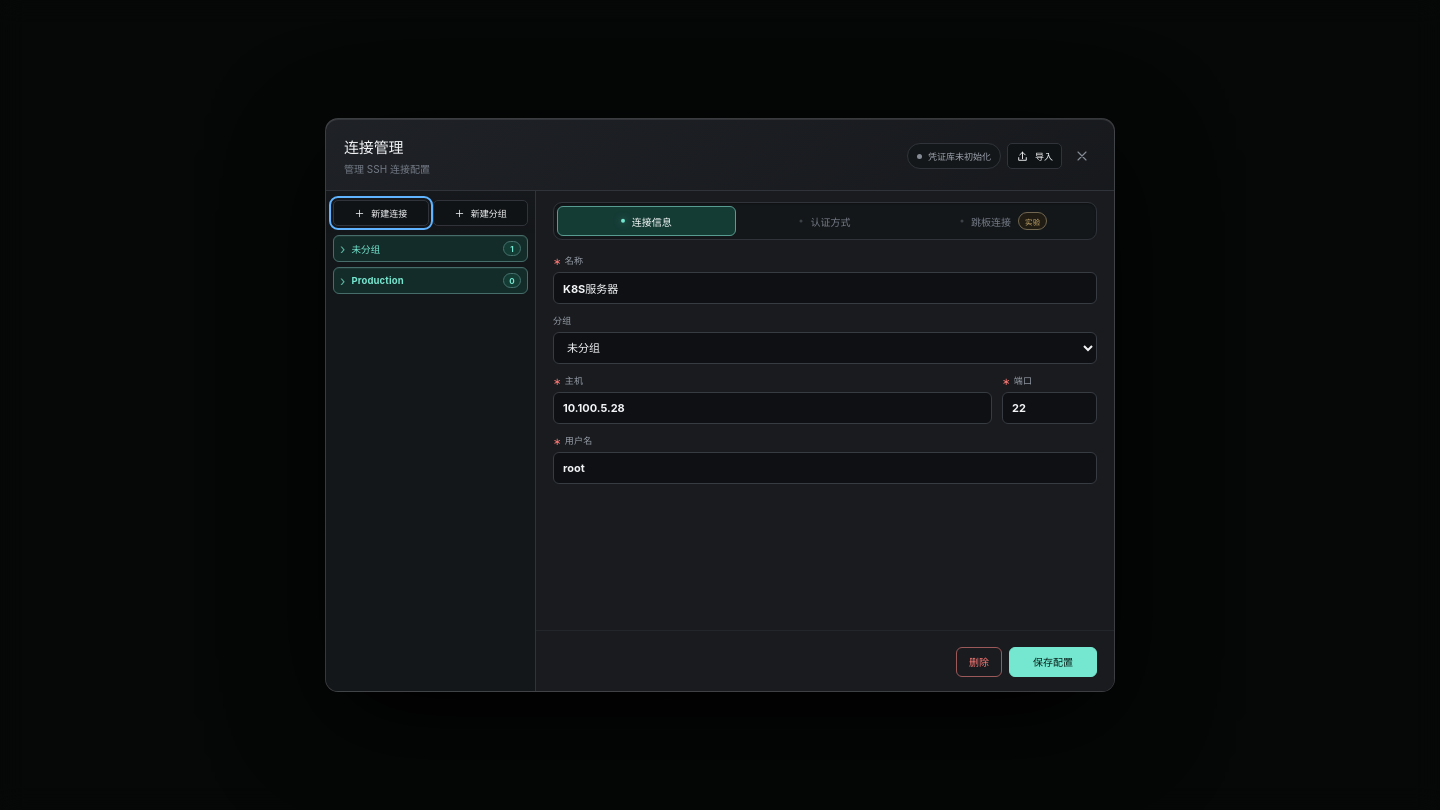
Test: connection list overflow after copying › removes the copied row's selection surface when its group is collapsed (null)
Click the button "› 未分组 1" at (430, 248), box 334,236 -> 527,261
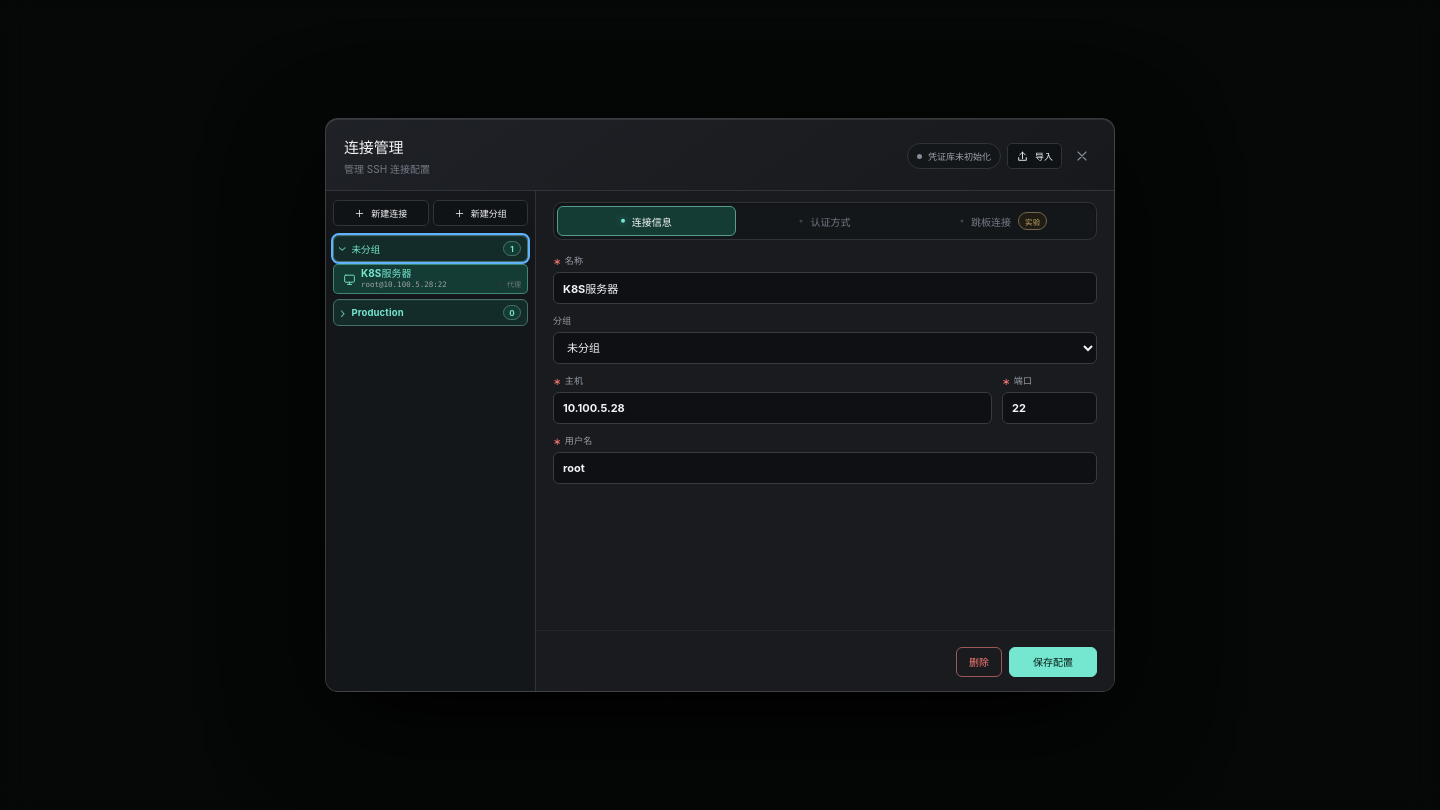
Right-click the button named "K8S服务器root@" at (430, 279), box 333,264 -> 528,294
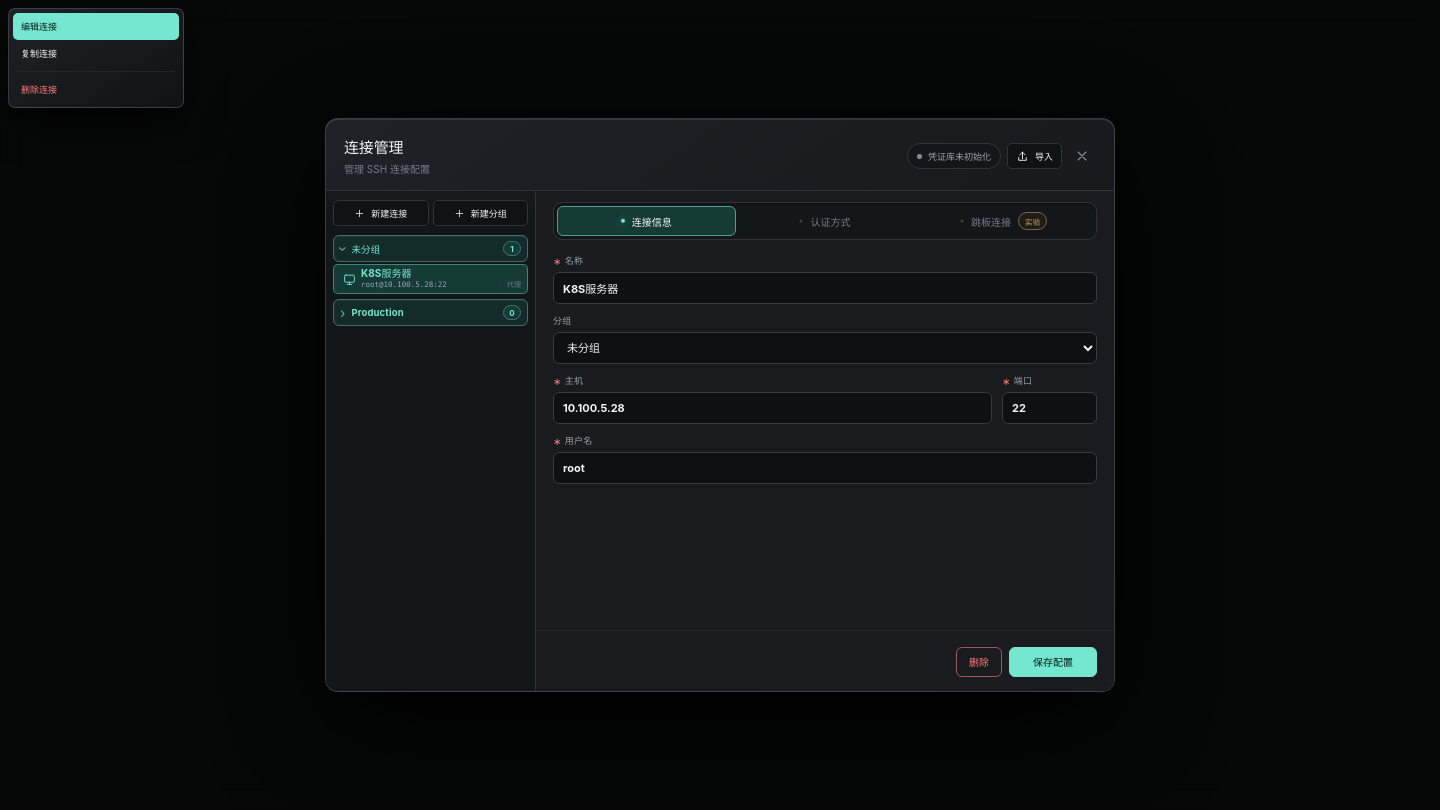
Click the menu item "复制连接" at (96, 54), box 13,40 -> 179,67
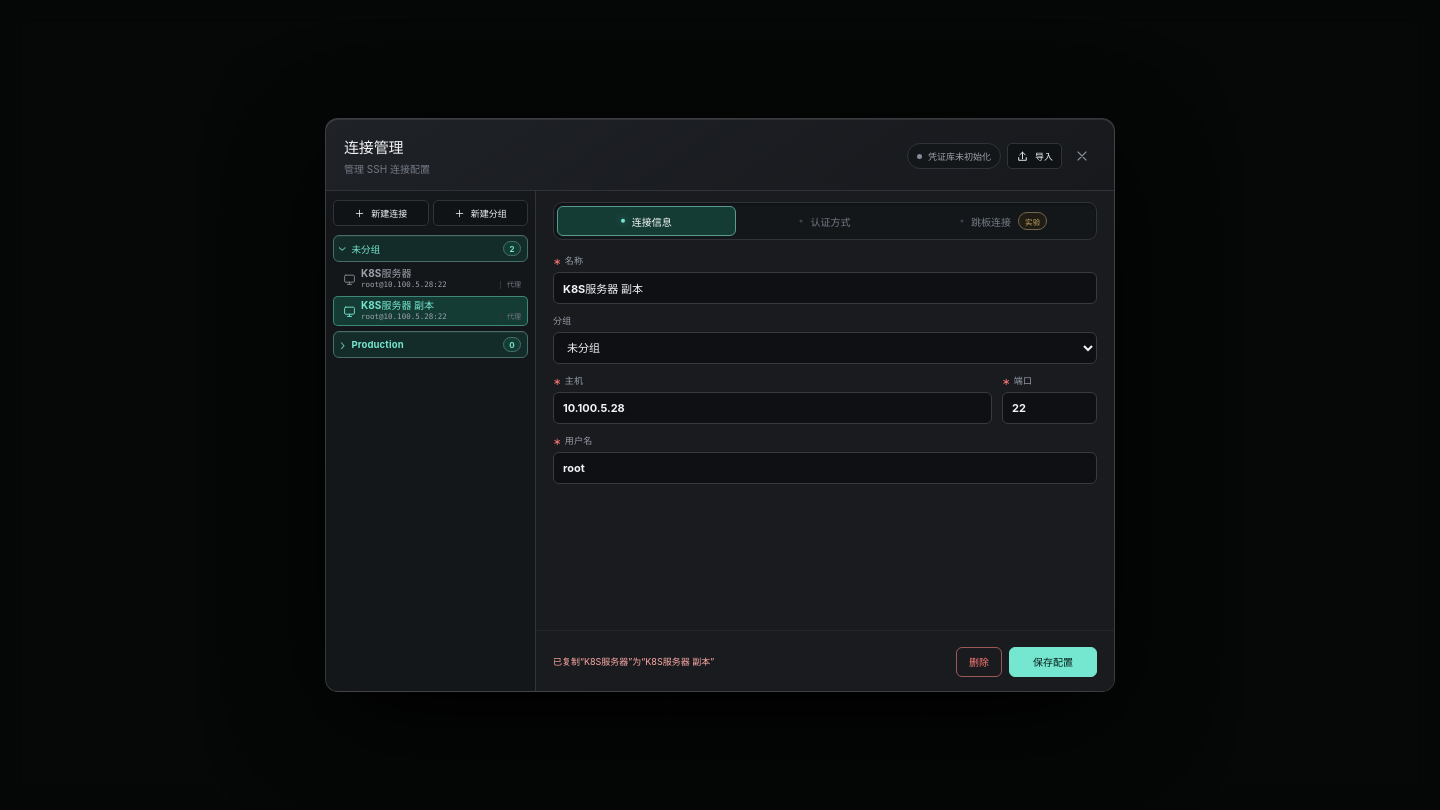
Check: the element with class "connection-selection-indicator" has attribute data-target-id="profile-copy", box 333,296 -> 528,326
Click the button "› 未分组 2" at (430, 248), box 334,236 -> 527,261
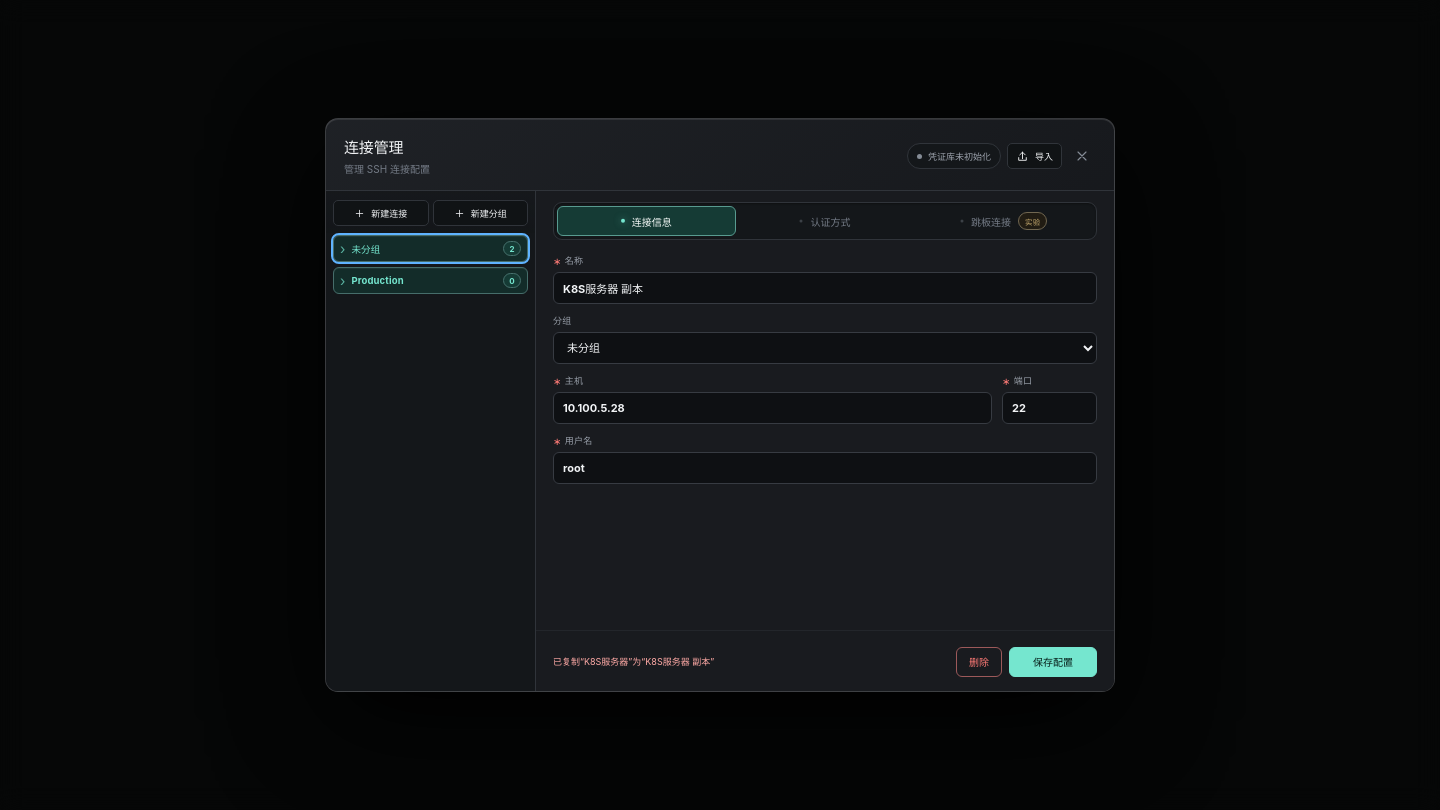
Check: the field labelled "名称" holds "K8S服务器 副本", box 553,272 -> 1097,304
Check: the button "› 未分组 2" is collapsed
Check: the element with class "connection-selection-indicator" is gone
Click the button "› 未分组 2" at (430, 248), box 334,236 -> 527,261
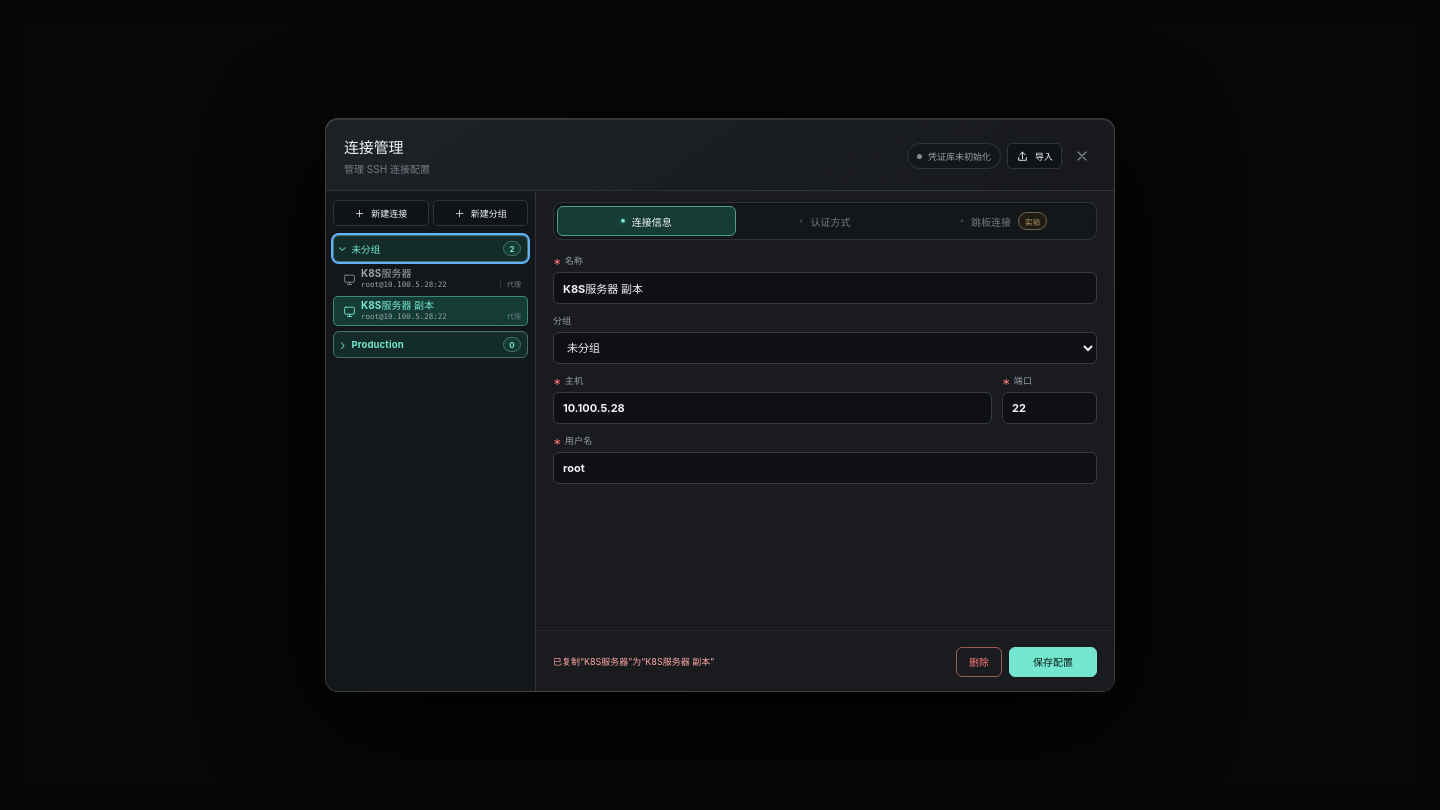
Check: the element with class "connection-selection-indicator" has attribute data-target-id="profile-copy", box 333,296 -> 528,326
Click the button "› 未分组 2" at (430, 248), box 334,236 -> 527,261
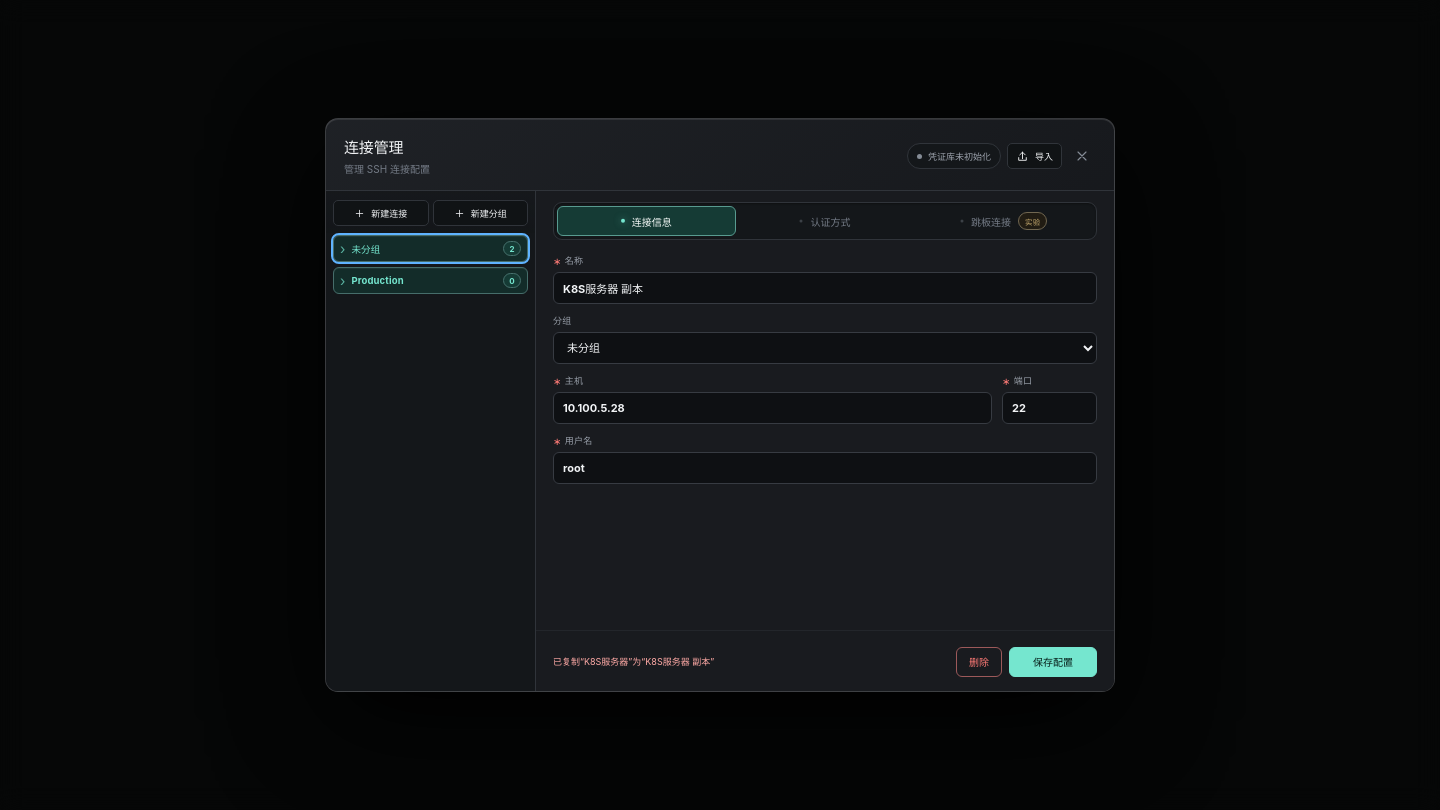
Check: the element with class "connection-selection-indicator" is gone
